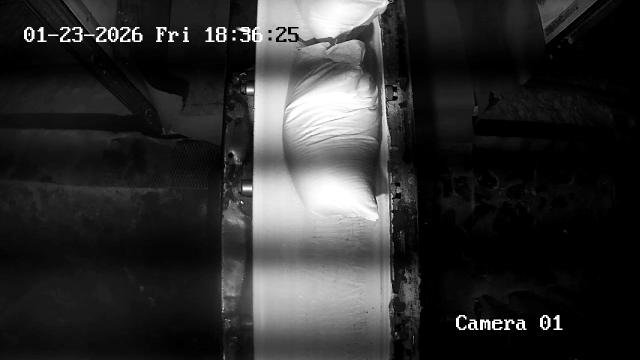bag: (283, 40, 380, 221), (297, 0, 389, 43)
